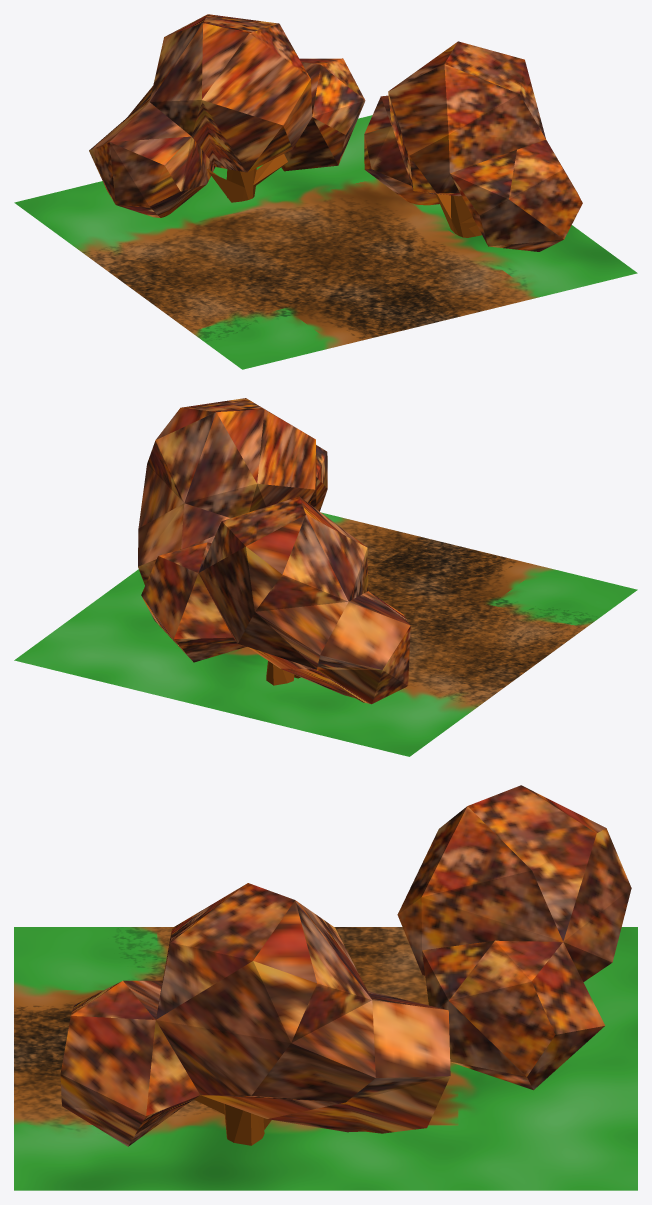
The model's file is CornerTile.fbx.
3 views of the same model, one above another, from view 1: azimuth 30°, elevation 25°; view 2: azimuth 150°, elevation 25°; view 3: azimuth 270°, elevation 25° (orthographic). The views are drawn at different scales.
Visible parts, largest first — view 1: Cylinder.003; view 2: Cylinder.003; view 3: Cylinder.003.
Boxes of the visible parts, bbox=[...] form: Cylinder.003: bbox=[14, 14, 637, 369]; Cylinder.003: bbox=[14, 398, 637, 756]; Cylinder.003: bbox=[14, 785, 637, 1190].
Bounding box in the file's own units: 200 × 92.1 × 200.
